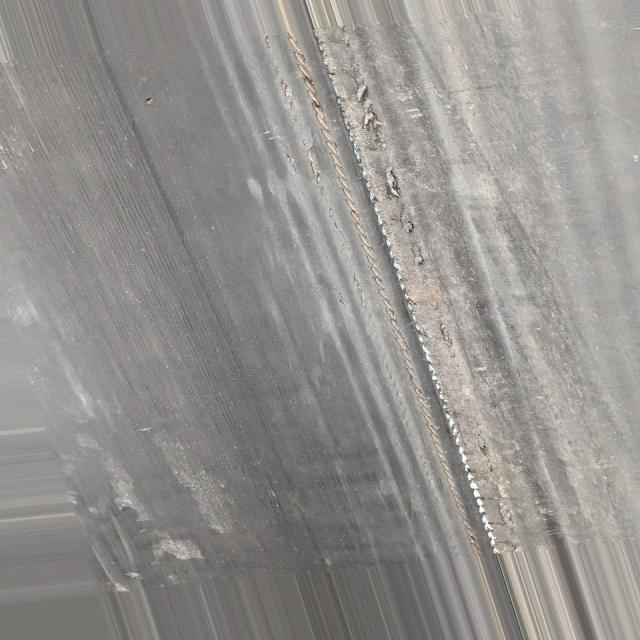Wear: (258, 16, 566, 554)
